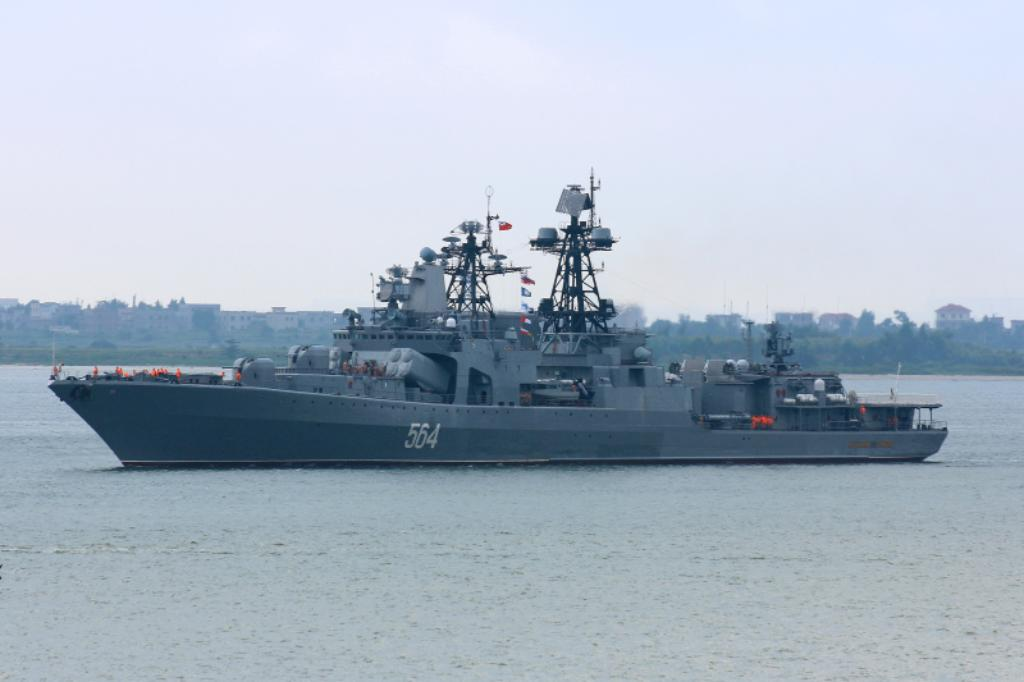Warship: (39, 164, 953, 466)
